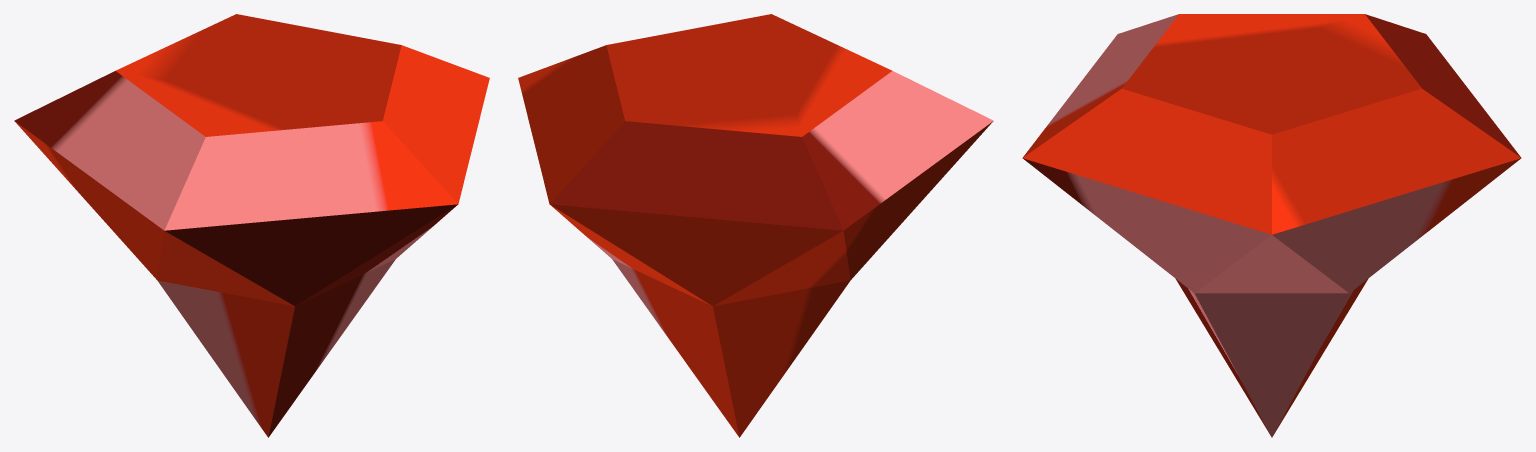
Rendered from crystal5.obj.
The picture shows the model from 3 angles, left to right: view 1: azimuth 30°, elevation 25°; view 2: azimuth 150°, elevation 25°; view 3: azimuth 270°, elevation 25°; orthographic projection. The views are drawn at different scales.
Parts seen in each view (by area): view 1: 5_Icosphere.016; view 2: 5_Icosphere.016; view 3: 5_Icosphere.016.
Part boxes in pixels (x1,y1,x2,y2): 5_Icosphere.016: (14,14,489,437); 5_Icosphere.016: (518,14,993,437); 5_Icosphere.016: (1022,14,1521,437).
Size of the model in its own units: 14.16 by 12.17 by 14.89.
1 material, 1 textured.
